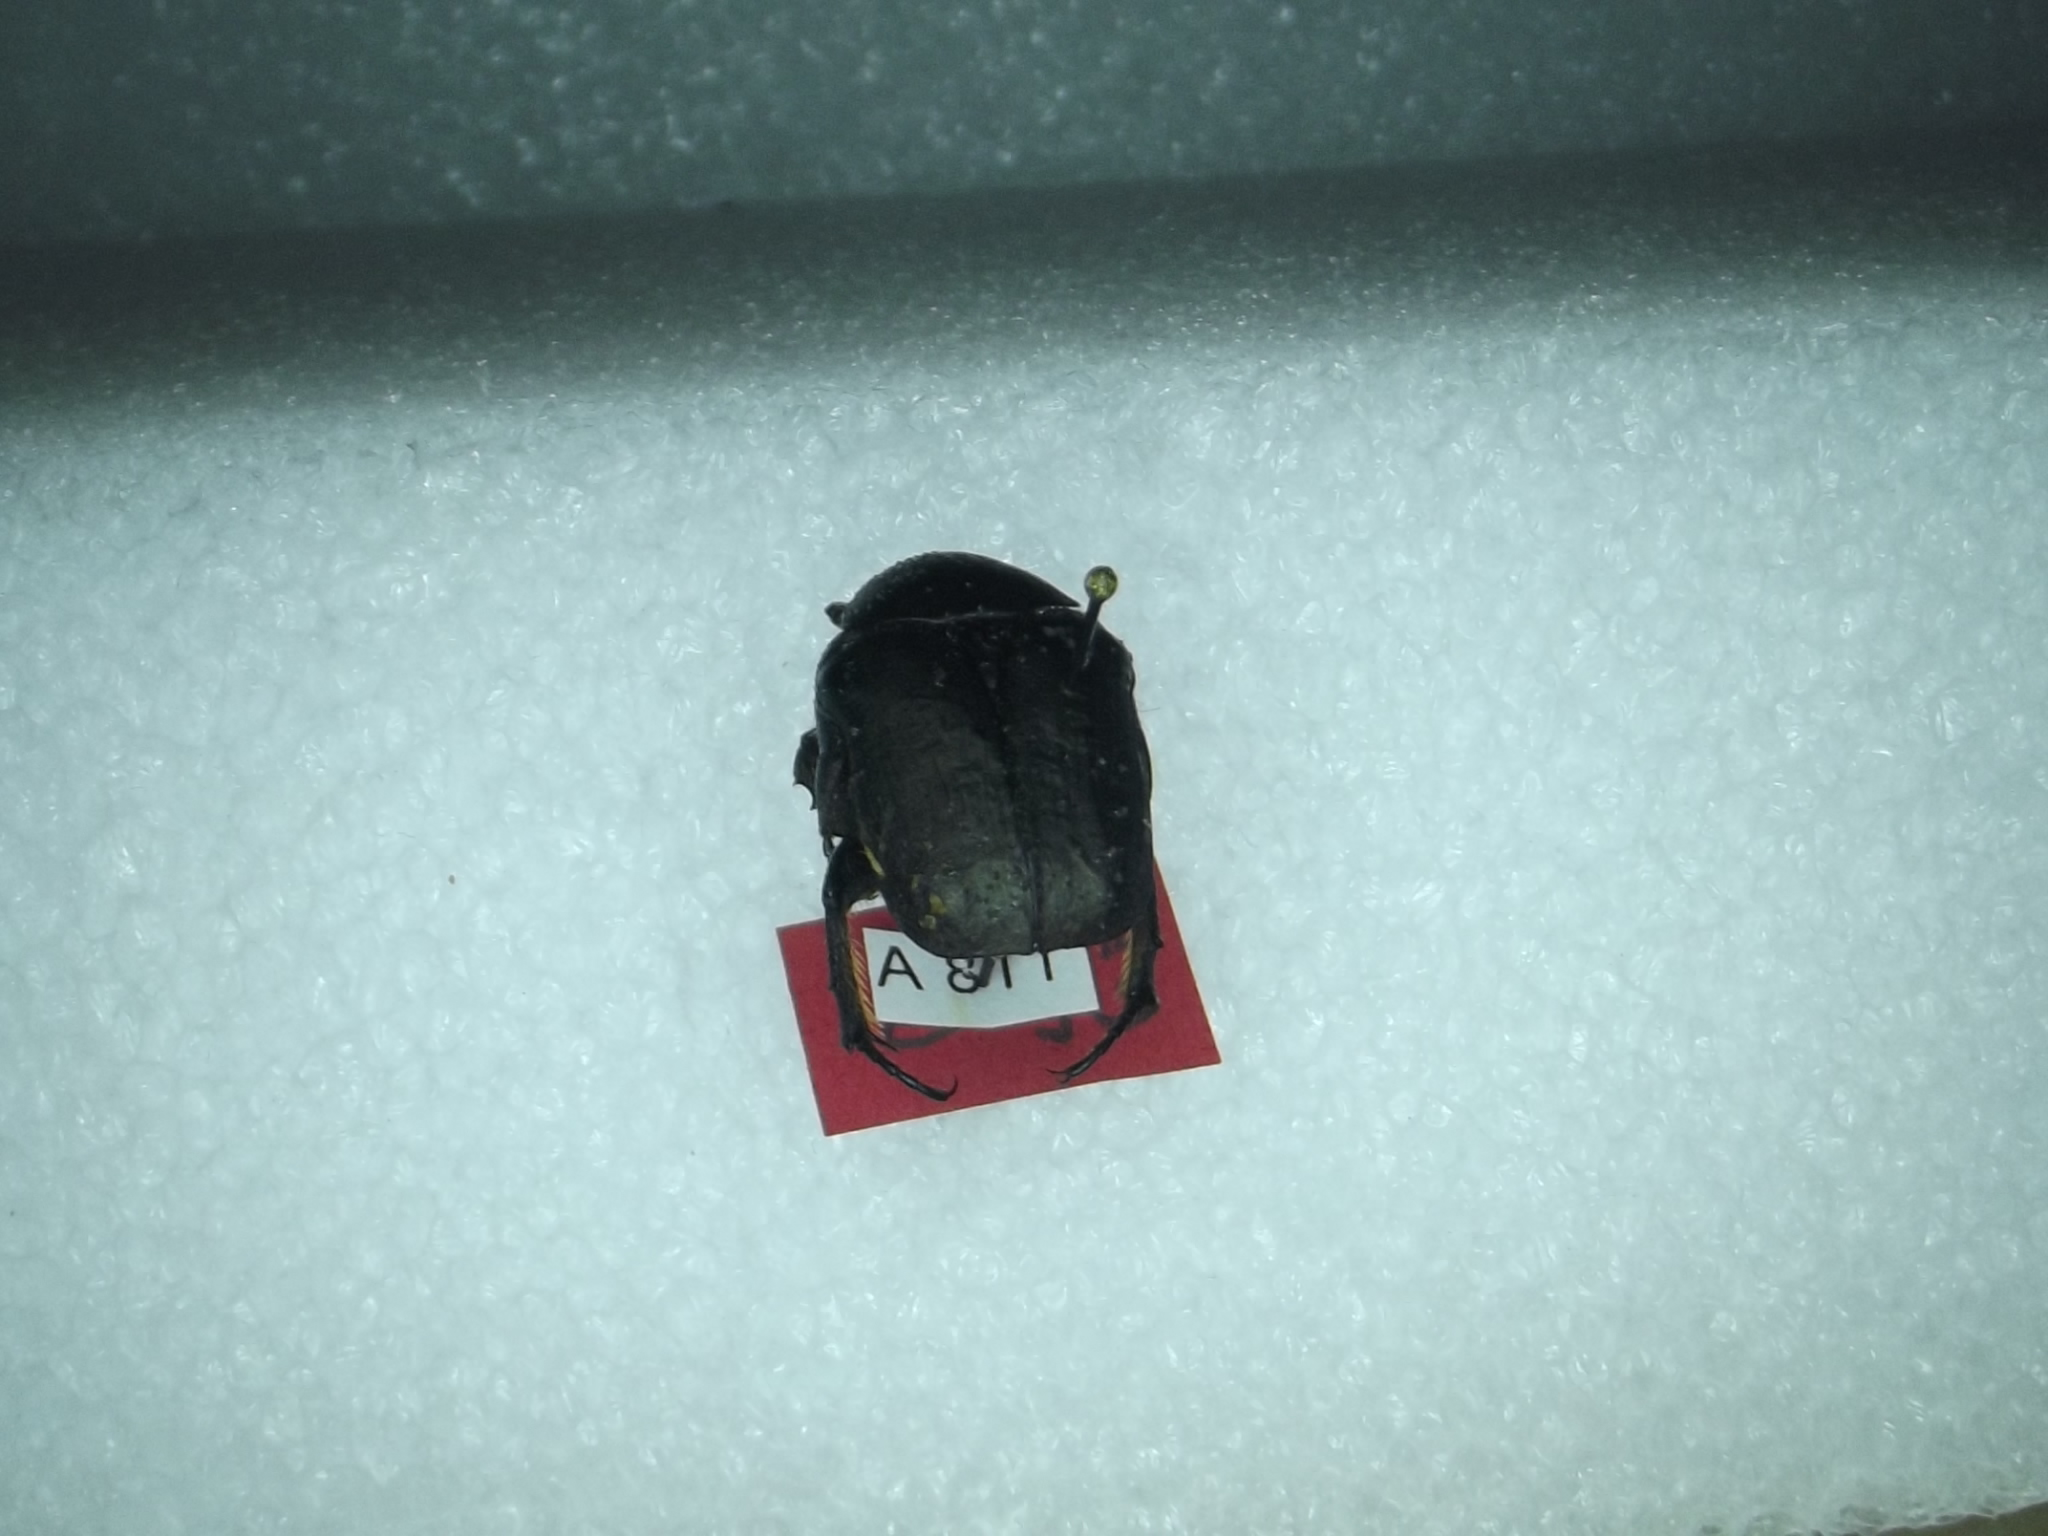Protaetia_oblonga: (793, 545, 1161, 1107)
